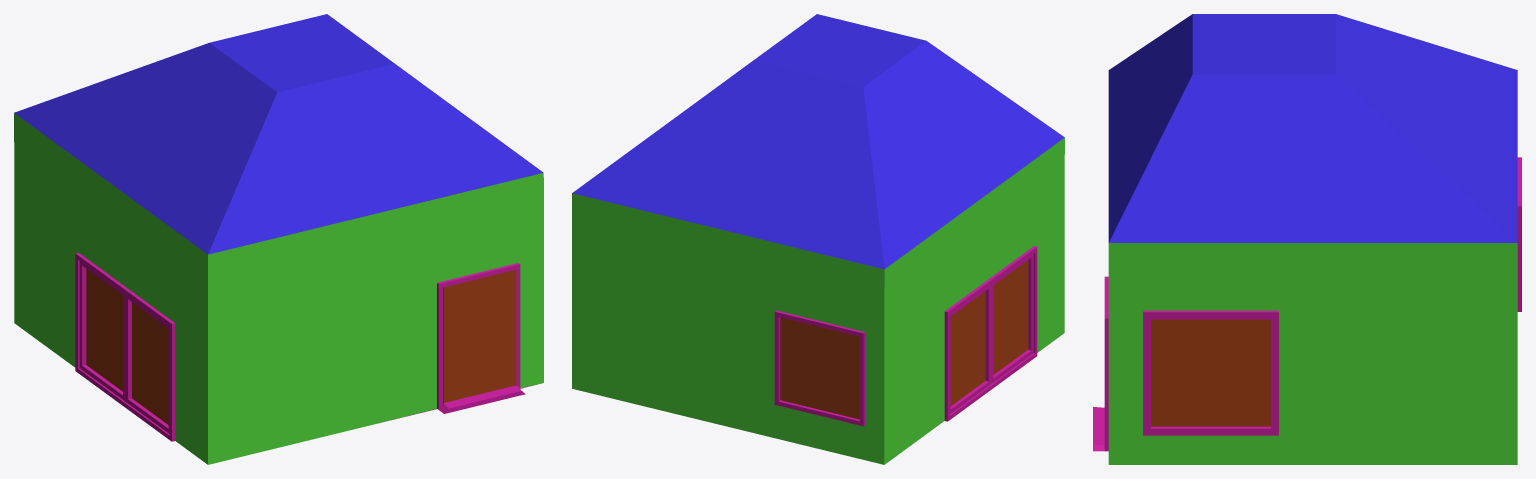
Rendered from mesh_maison_3.fbx.
3 views of the same model, side by side, from view 1: azimuth 30°, elevation 25°; view 2: azimuth 150°, elevation 25°; view 3: azimuth 270°, elevation 25° (orthographic). The views are drawn at different scales.
Visible parts, largest first — view 1: maison3; view 2: maison3; view 3: maison3.
Part boxes in pixels (left/top/right/bottom): maison3: left=14, top=14, right=543, bottom=464; maison3: left=572, top=14, right=1064, bottom=464; maison3: left=1093, top=14, right=1521, bottom=464.
Bounding box in the file's own units: 204 × 180 × 210.
